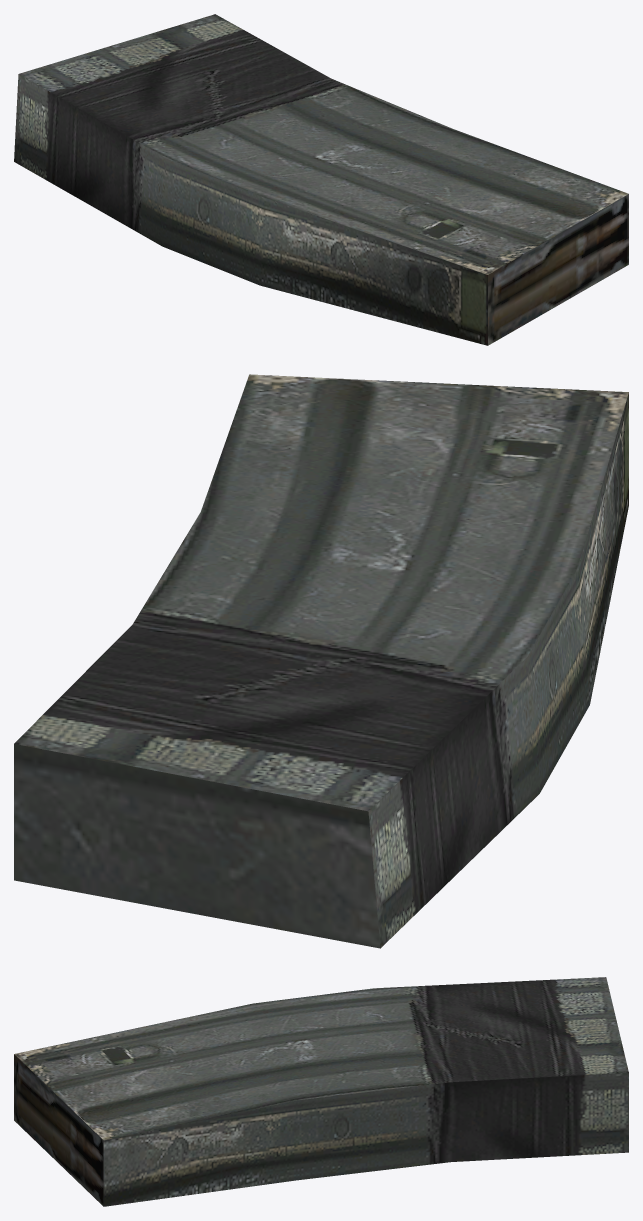
File: weapon_m4_clip_LOD0.obj
3 views of the same model, one above another, from view 1: azimuth 30°, elevation 25°; view 2: azimuth 150°, elevation 25°; view 3: azimuth 270°, elevation 25° (orthographic). The views are drawn at different scales.
Parts seen in each view (by area): view 1: mtl_weapon_m4_short; view 2: mtl_weapon_m4_short; view 3: mtl_weapon_m4_short.
Boxes of the visible parts, <box> form: mtl_weapon_m4_short: <box>14,14,628,345</box>; mtl_weapon_m4_short: <box>14,374,628,948</box>; mtl_weapon_m4_short: <box>14,977,628,1206</box>.
Size of the model in its own units: 10.46 by 2.45 by 17.06.
Materials: 1 (1 with a texture image).
